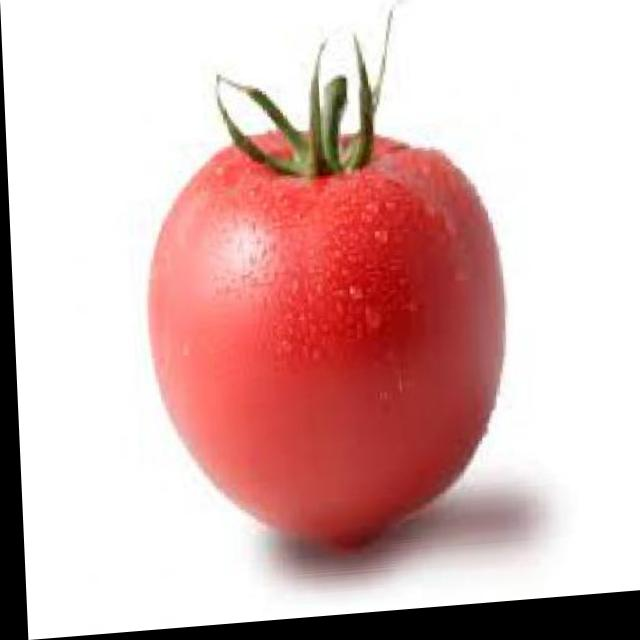kirmizi: (137, 27, 530, 572)
